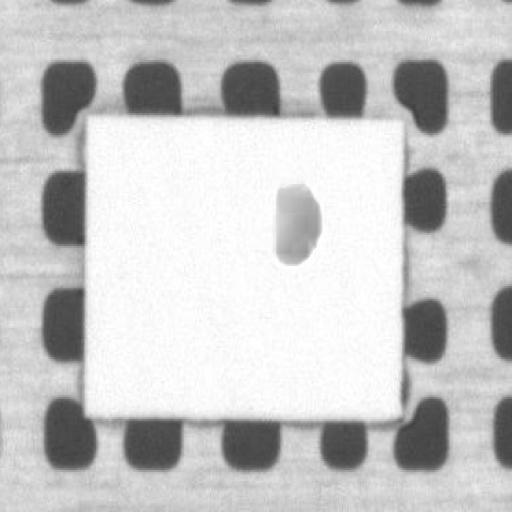DIE_INK: (272, 179, 321, 266)
